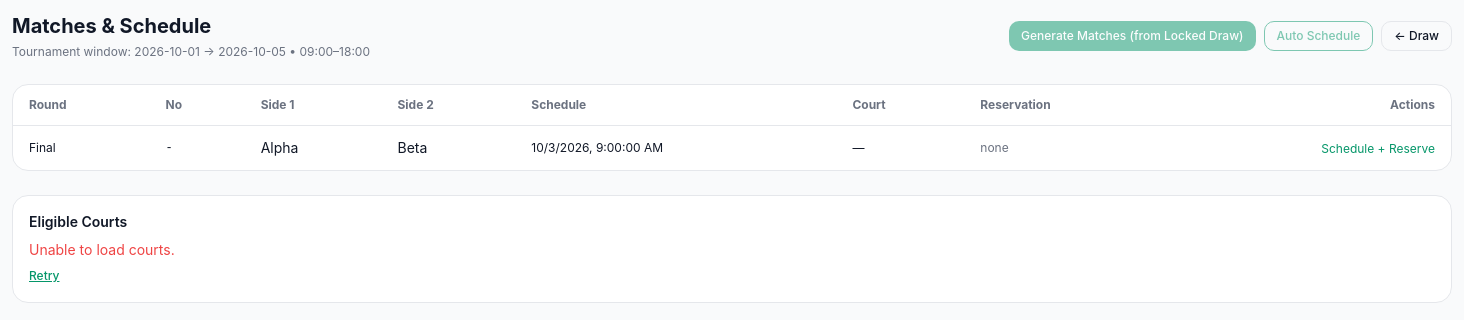
Test: TournamentSchedulePage — F-02 fetch-error handling (UX-8) › courts query failure shows an error + Retry without blocking the match table, and Retry recovers
Expected: the text "Unable to load courts." is shown, [29, 241, 175, 258]
Expected: the text "Final" is shown, [13, 126, 150, 170]
Click the button "Retry": (44, 276) [29, 268, 60, 284]
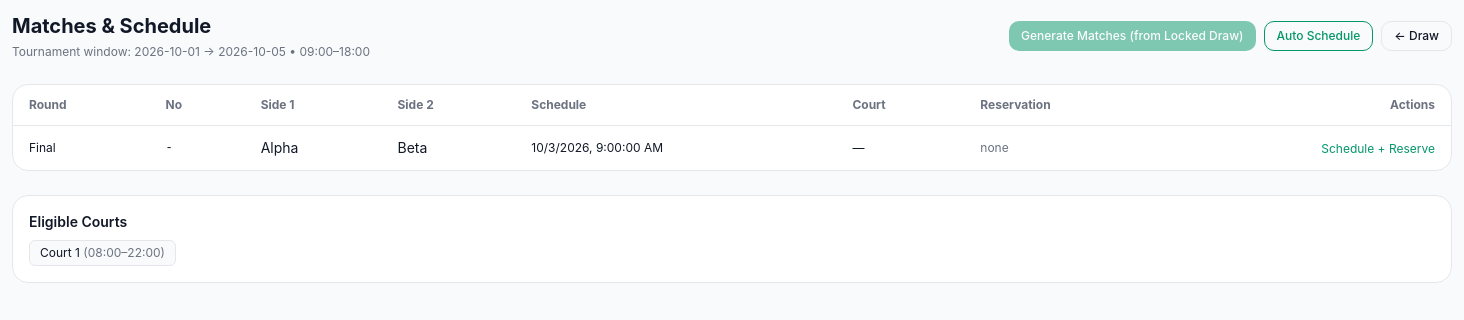
Expected: the text "Court 1" is shown, [40, 245, 80, 260]
Expected: the text "Unable to load courts." is gone
